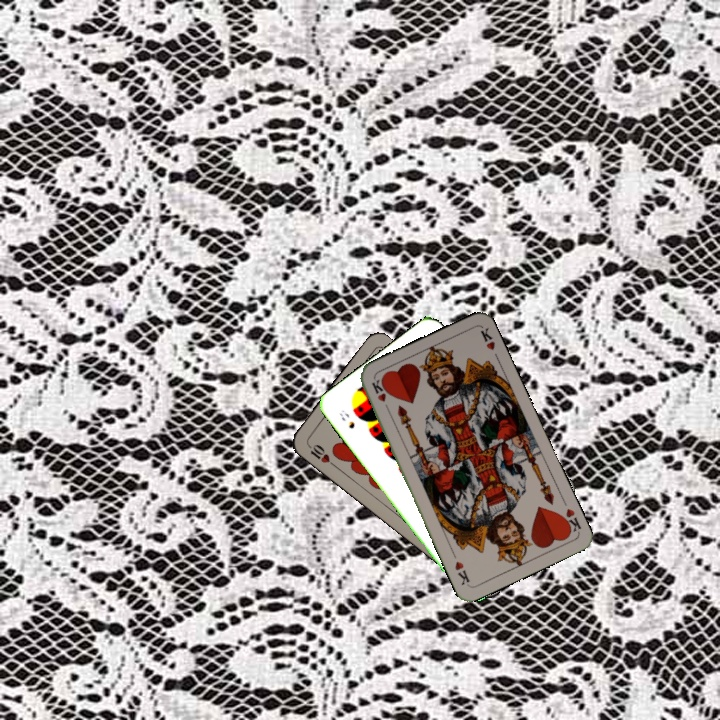H10: (303, 439, 338, 469)
HK: (367, 376, 392, 415), (557, 504, 584, 537)
S8: (336, 406, 357, 431)
